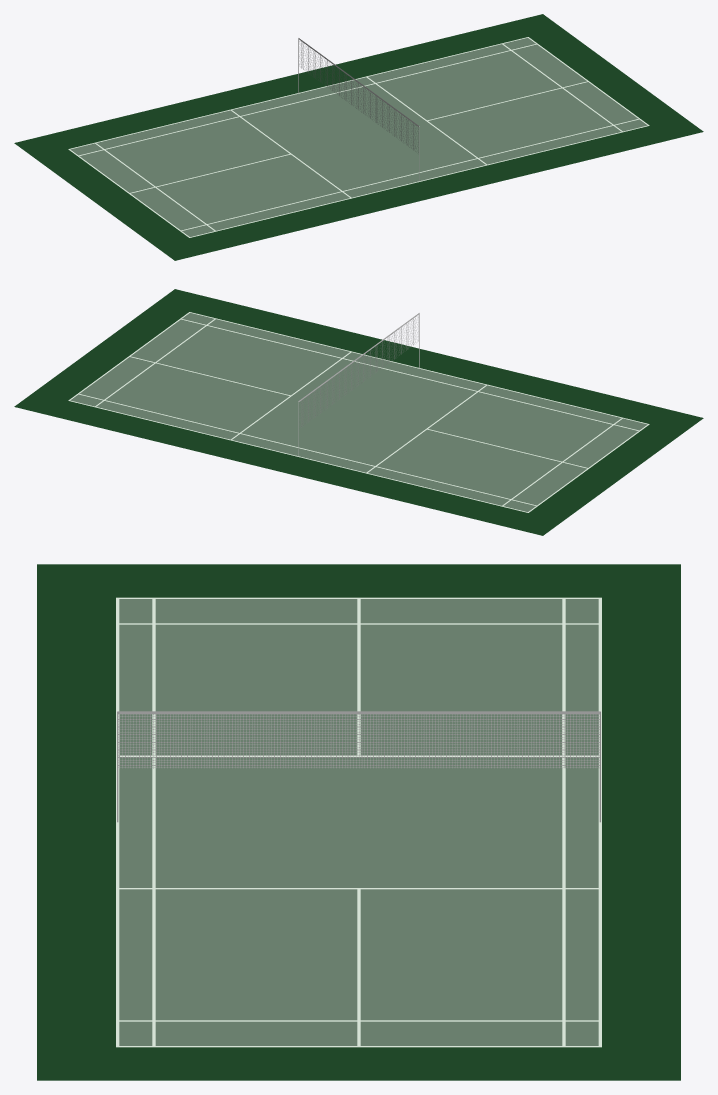
File: court.fbx
3 views of the same model, one above another, from view 1: azimuth 30°, elevation 25°; view 2: azimuth 150°, elevation 25°; view 3: azimuth 270°, elevation 25° (orthographic). The views are drawn at different scales.
Visible parts, largest first — view 1: floor, net; view 2: floor, net; view 3: floor, net.
Boxes of the visible parts, bbox=[...] form: floor: bbox=[14, 14, 703, 260]; net: bbox=[299, 38, 418, 152]; floor: bbox=[14, 289, 703, 535]; net: bbox=[299, 313, 418, 427]; floor: bbox=[37, 564, 680, 1080]; net: bbox=[118, 711, 599, 768].
Bounding box in the file's own units: 1544 × 155 × 814.
Materials: 6 (1 with a texture image).
